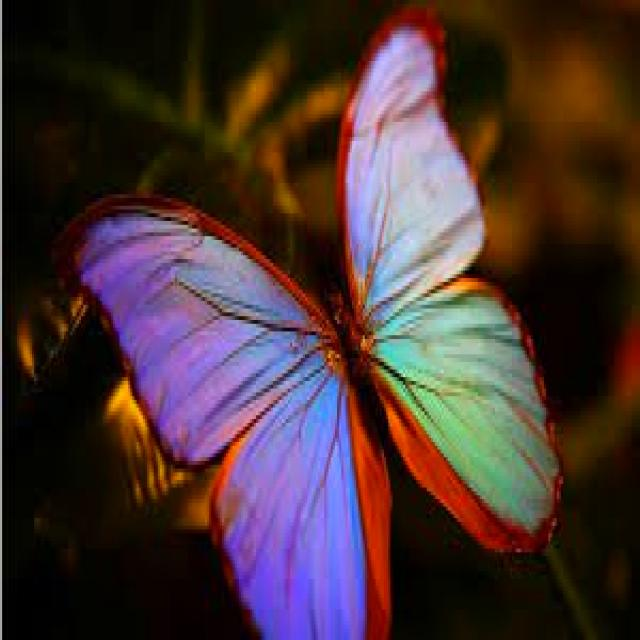butterfly: (60, 8, 559, 636)
